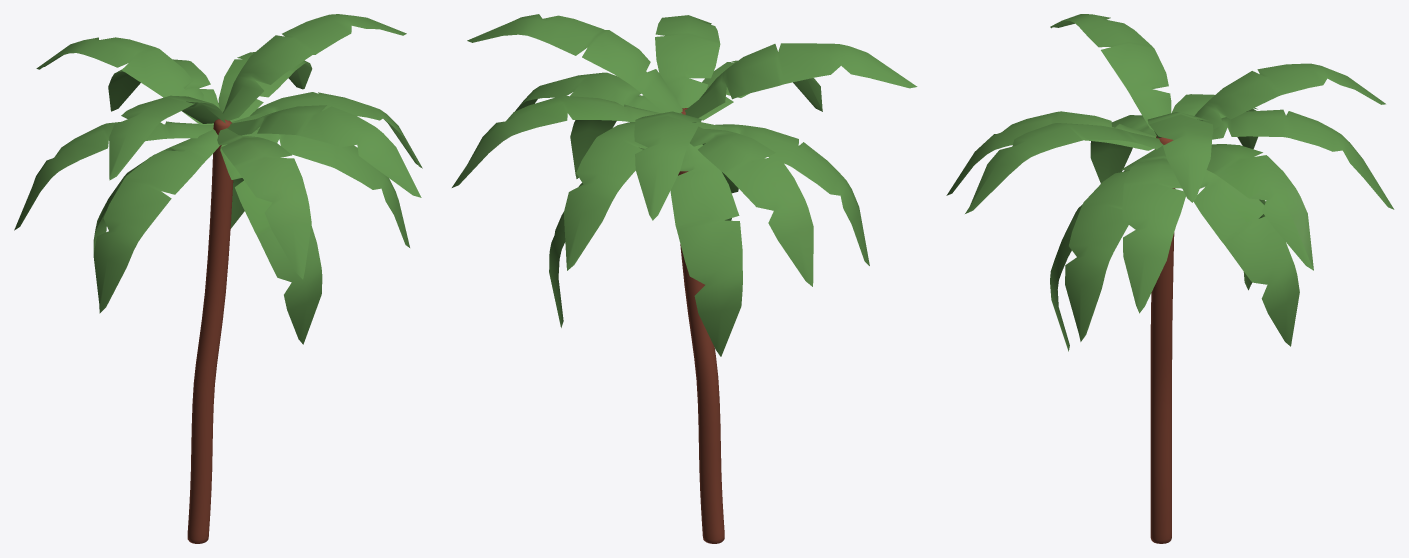
The model's file is Palm4.fbx.
3 views of the same model, side by side, from view 1: azimuth 30°, elevation 25°; view 2: azimuth 150°, elevation 25°; view 3: azimuth 270°, elevation 25° (orthographic). The views are drawn at different scales.
Visible parts, largest first — view 1: Foglie, Trunk; view 2: Foglie, Trunk; view 3: Foglie, Trunk.
Part boxes in pixels (x1,y1,x2,y2): Foglie: [14, 14, 422, 344]; Trunk: [187, 119, 233, 543]; Foglie: [452, 14, 917, 356]; Trunk: [678, 108, 724, 543]; Foglie: [946, 14, 1394, 351]; Trunk: [1150, 136, 1175, 543].
Bounding box in the file's own units: 305 × 377 × 316.
